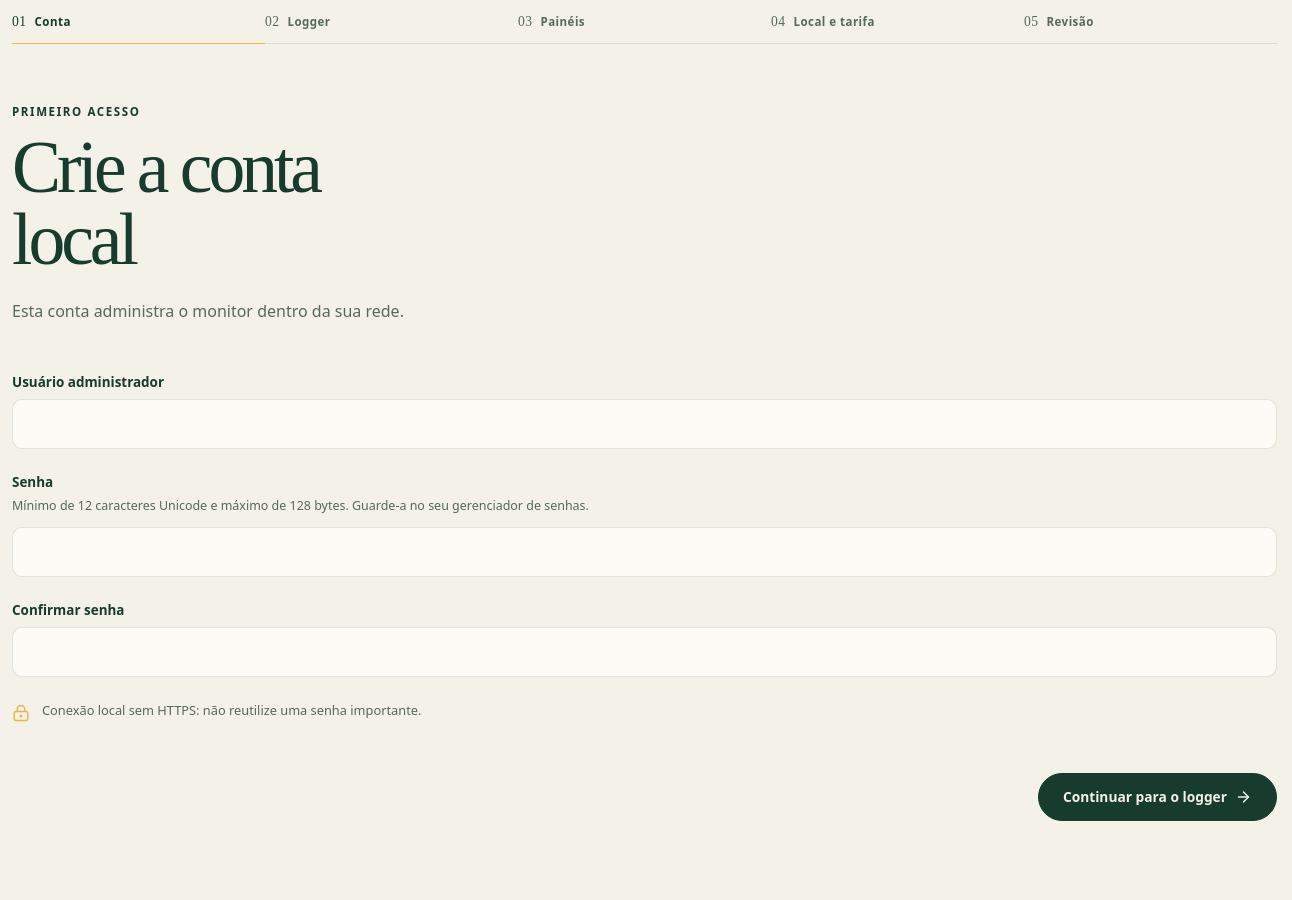
Scenario: OnboardingWizard › orienta IP privado sem substituir a autoridade do servidor
The width and height of the screenshot is (1292, 900).
Step 1. Type "Admin" into the field labelled "Usuário administrador" → (644, 424), box [12,399,1277,449]
Step 2. Type "uma senha local segura" into the password field labelled "Senha" → (644, 552), box [12,527,1277,577]
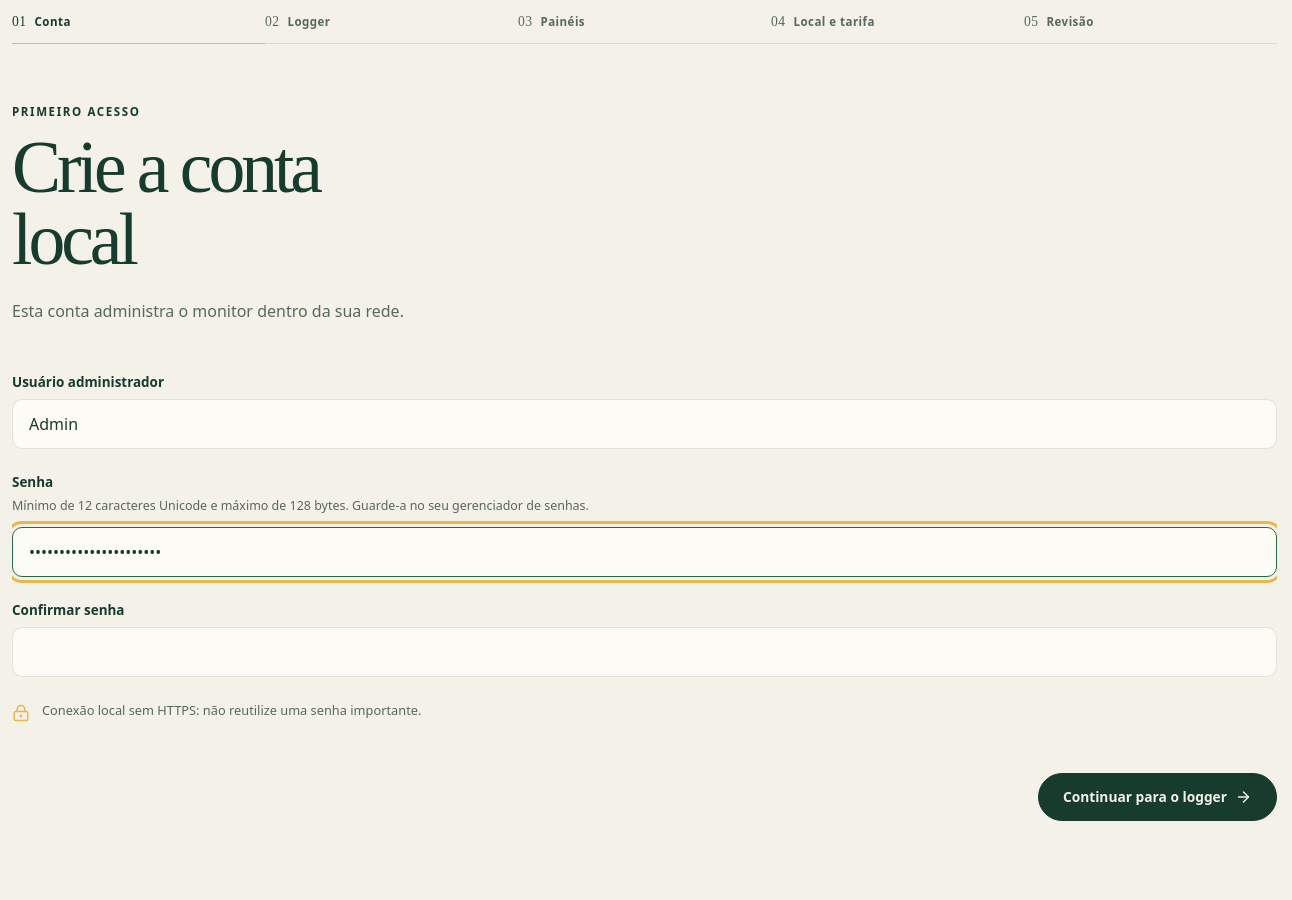
Step 3. Type "uma senha local segura" into the password field labelled "Confirmar senha" → (644, 652), box [12,627,1277,677]
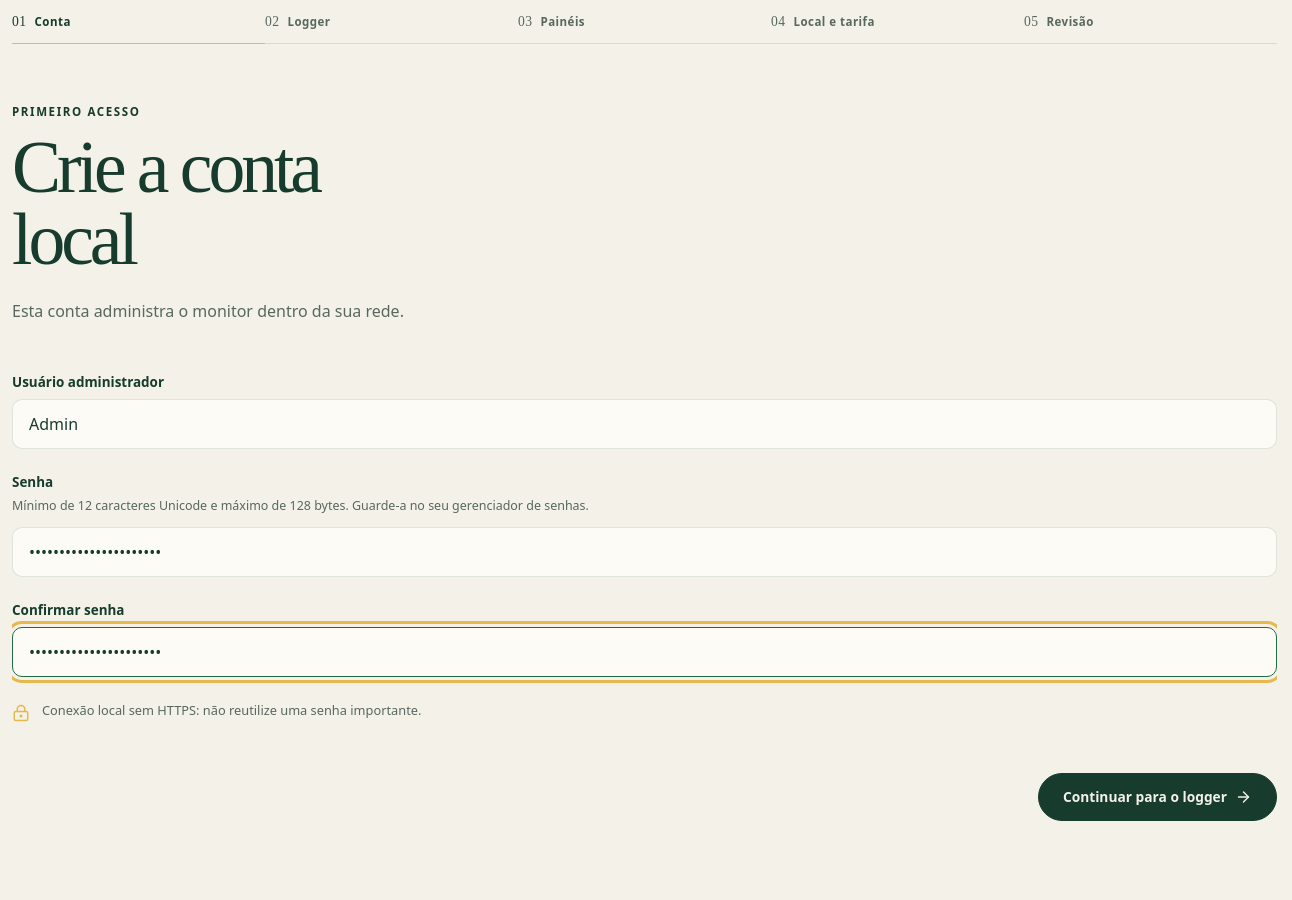
Step 4. Click the button "Continuar para o logger" → (1157, 797), box [1038,773,1277,821]
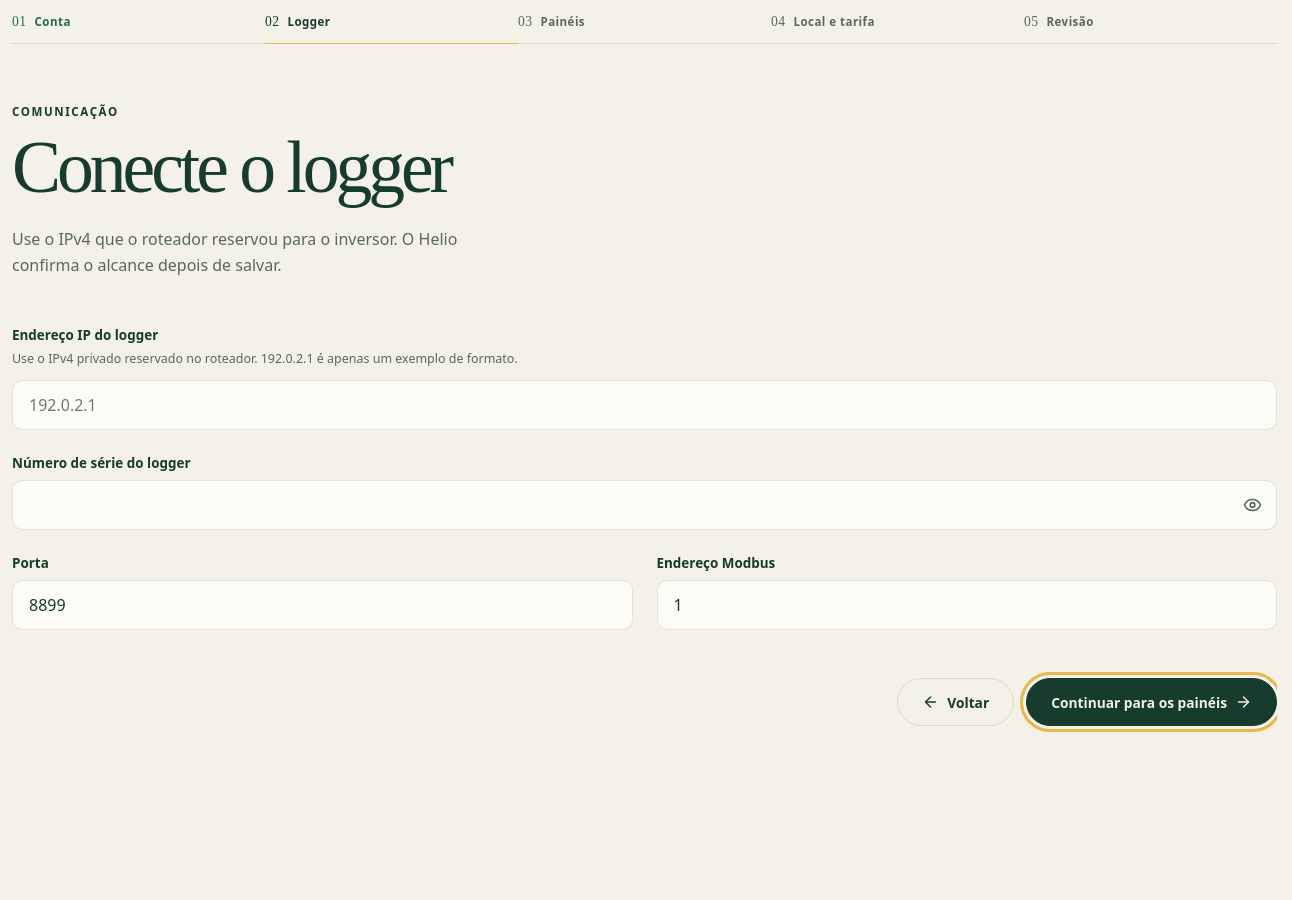
Now the text "Use o IPv4 privado" shows "192.0.2.1", box [12,350,518,367]
Step 5. Type "8.8.8.8" into the field labelled "Endereço IP do logger" → (644, 405), box [12,380,1277,430]
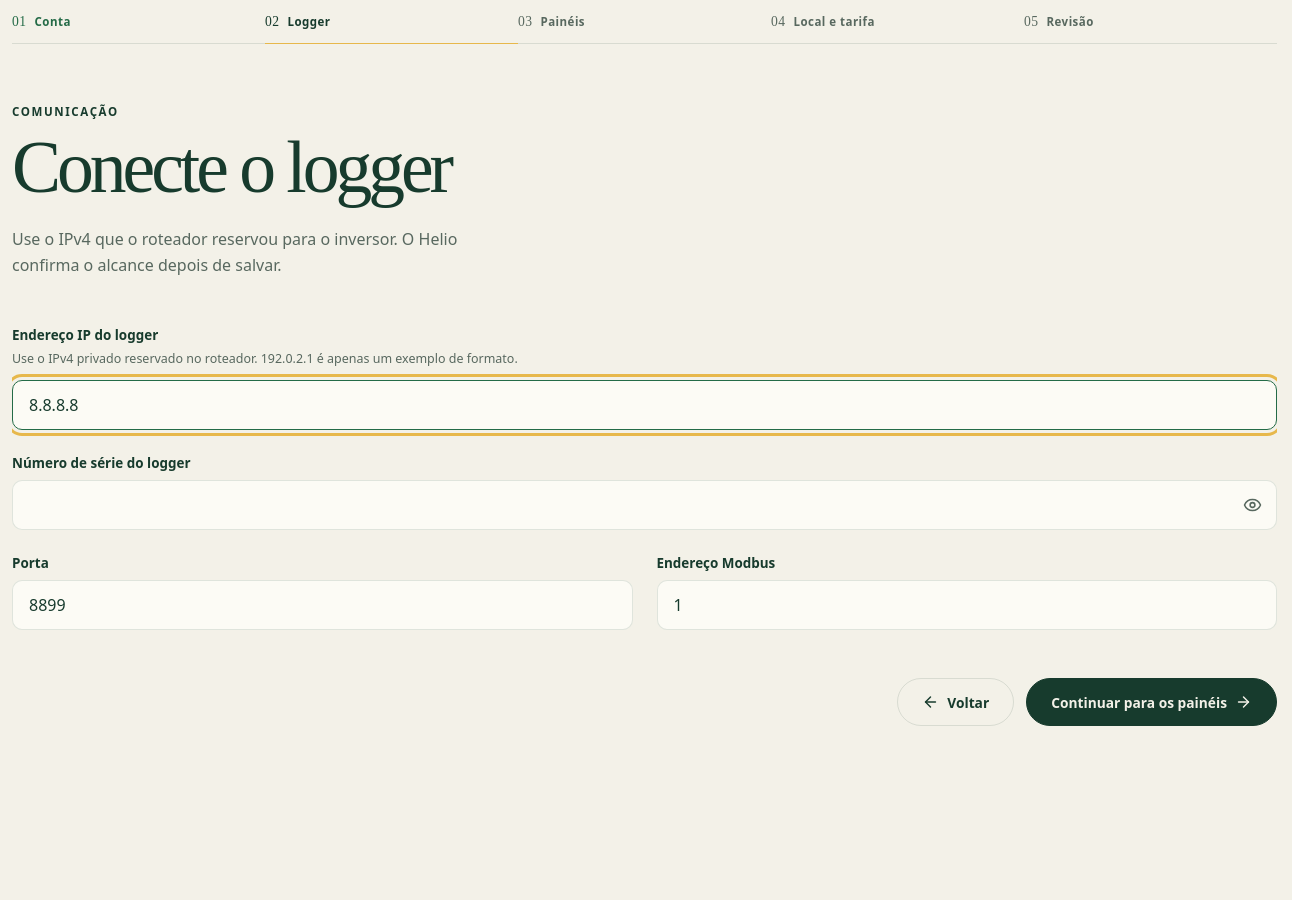
Step 6. Type "123456789" into the password field labelled "Número de série do logger" → (644, 505), box [12,480,1277,530]
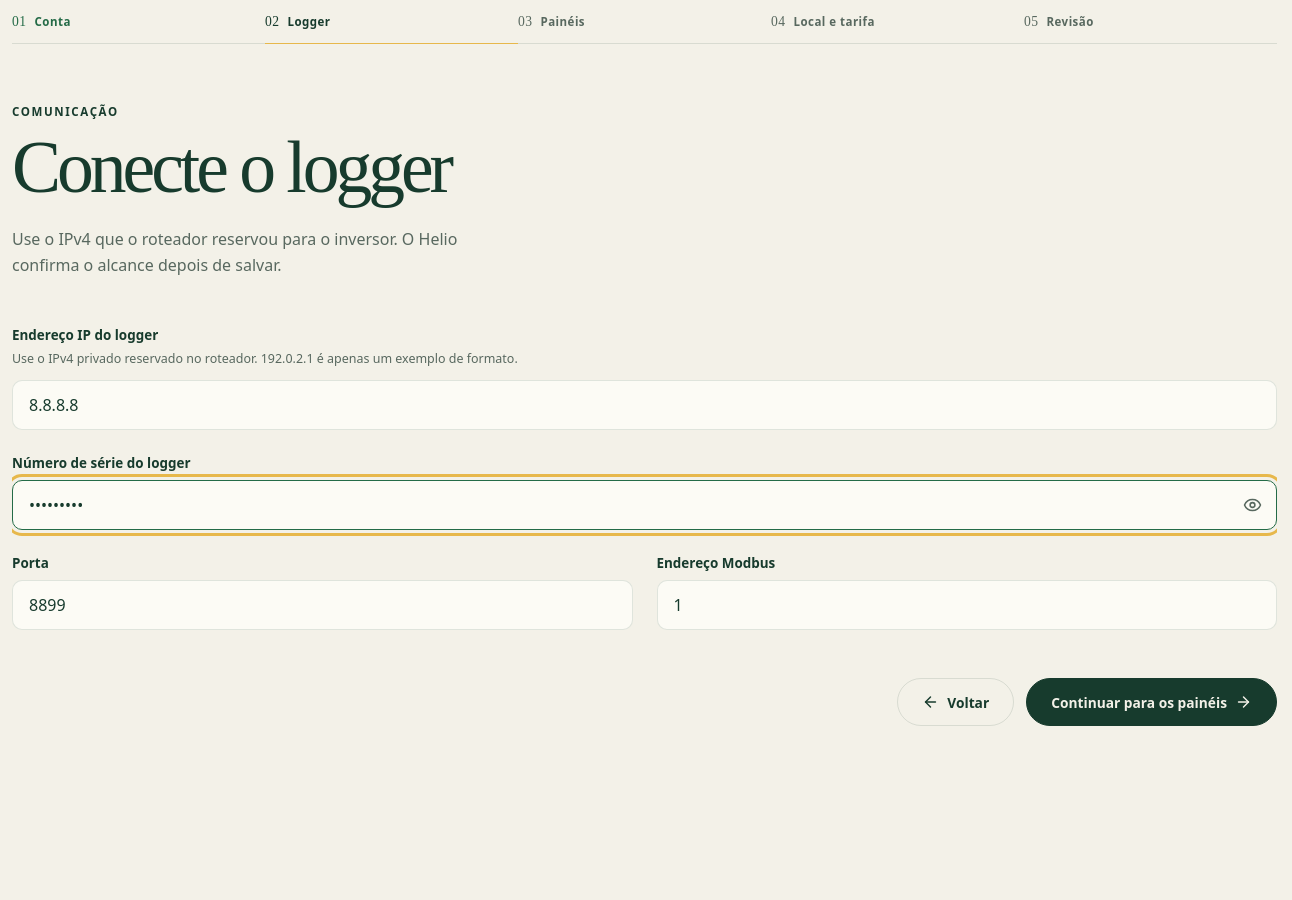
Step 7. Click the button "Continuar para os painéis" → (1152, 702), box [1026,678,1277,726]
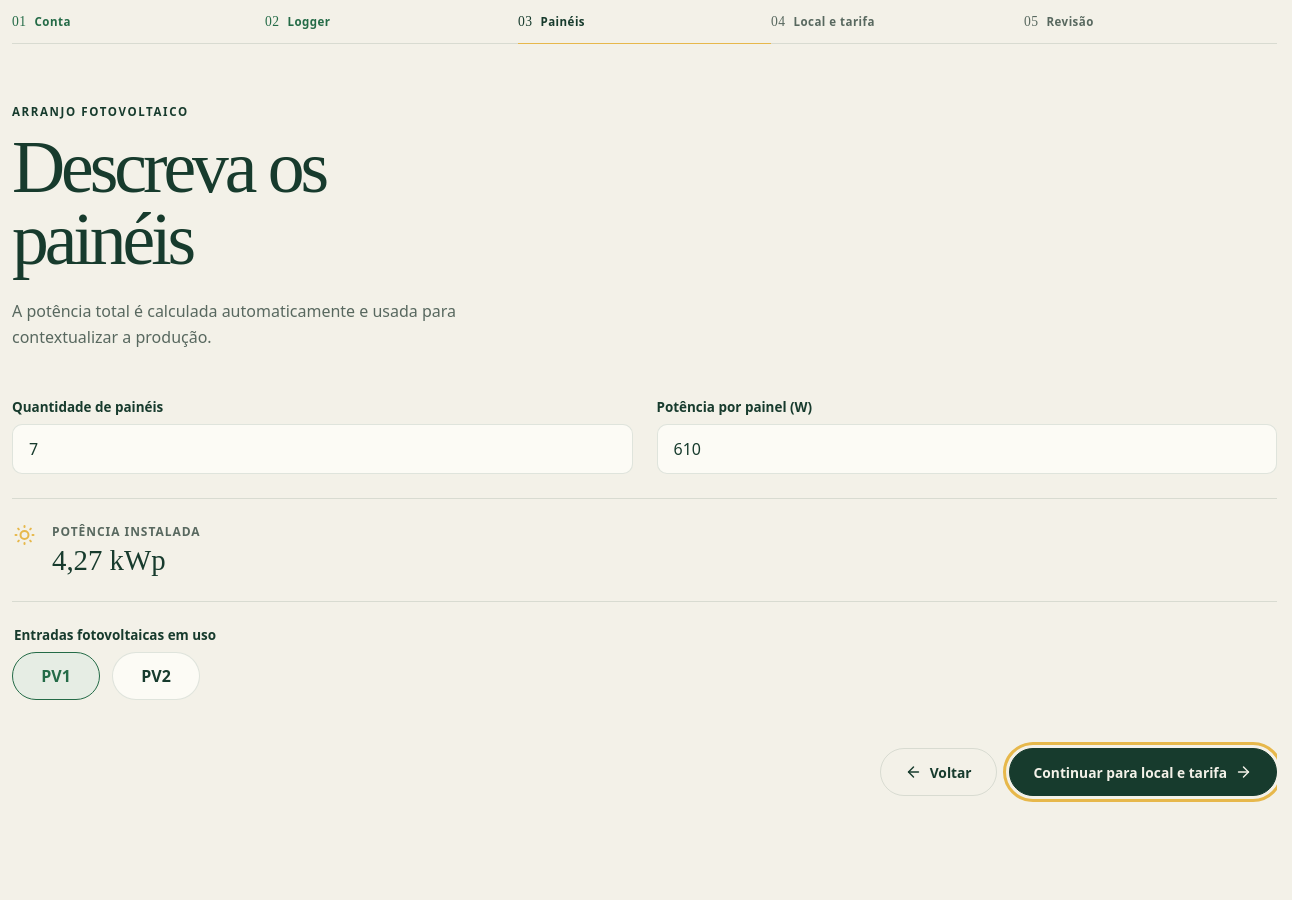
Now the heading "Descreva os painéis" is shown, box [12,126,325,280]
